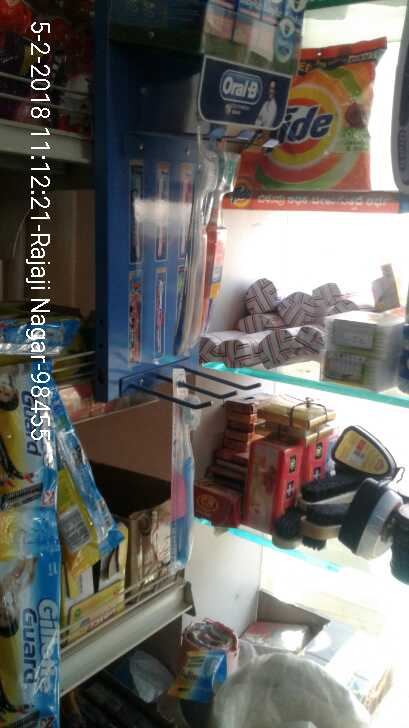beauty: (1, 512, 84, 710)
home: (237, 37, 385, 194)
